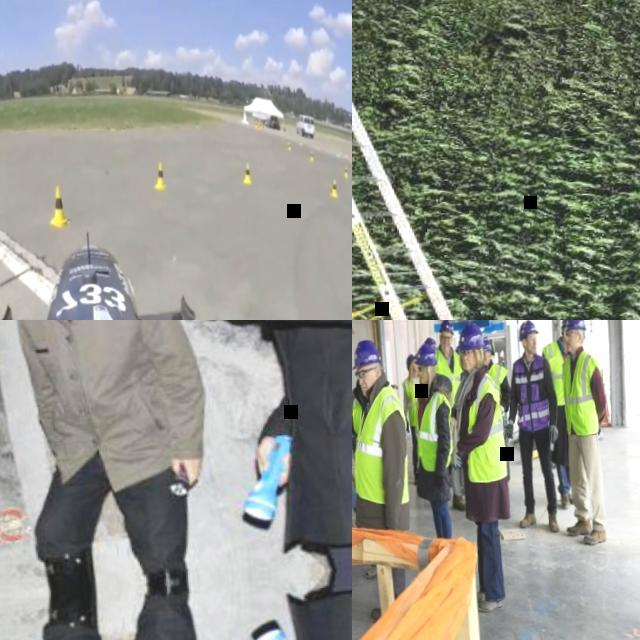helmet: (454, 321, 483, 351), (352, 337, 380, 368), (412, 342, 435, 367), (516, 320, 538, 339), (561, 320, 585, 331), (437, 320, 453, 335), (404, 352, 416, 370), (482, 338, 492, 352), (423, 336, 436, 346), (561, 320, 571, 324)
vest: (352, 382, 412, 506), (459, 372, 507, 484), (560, 349, 604, 436), (410, 391, 455, 472), (511, 354, 548, 434), (434, 347, 464, 409), (540, 340, 566, 405), (486, 362, 512, 427), (401, 378, 419, 428)
